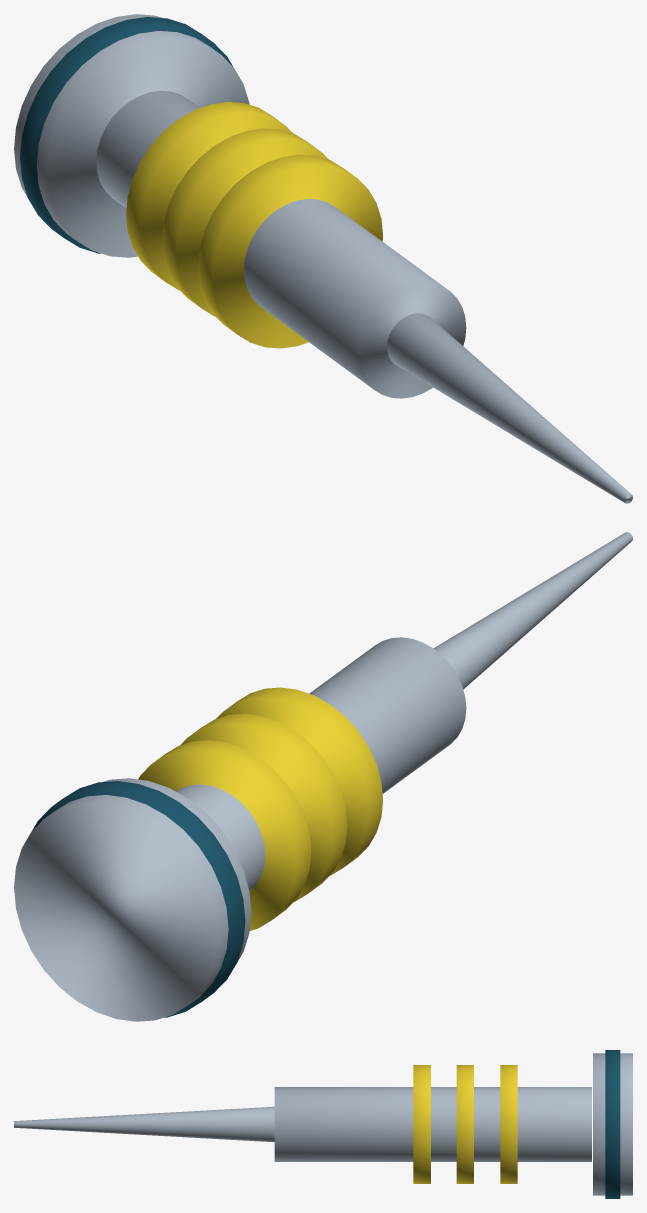
Rendered from LaserGun.fbx.
3 renders of one model, top to bottom at view 1: azimuth 30°, elevation 25°; view 2: azimuth 150°, elevation 25°; view 3: azimuth 270°, elevation 25°, orthographic. The views are drawn at different scales.
Visible parts, largest first — view 1: LaserGun; view 2: LaserGun; view 3: LaserGun.
Boxes of the visible parts, box(x1,y1,x2,y2) form: LaserGun: box(14, 14, 632, 503); LaserGun: box(14, 532, 632, 1021); LaserGun: box(14, 1050, 632, 1198).
Size of the model in its own units: 44.11 by 44.11 by 183.
